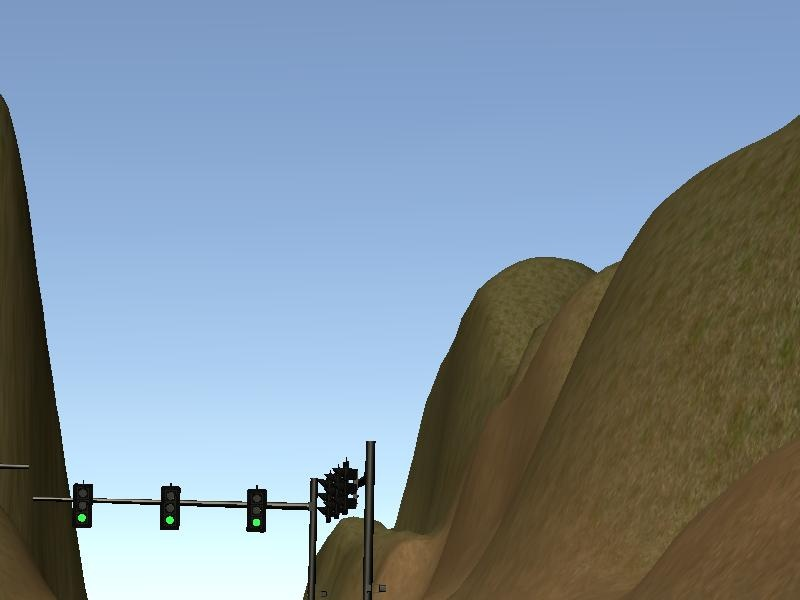GREEN: (72, 481, 94, 528), (244, 487, 267, 531), (160, 483, 181, 528)
